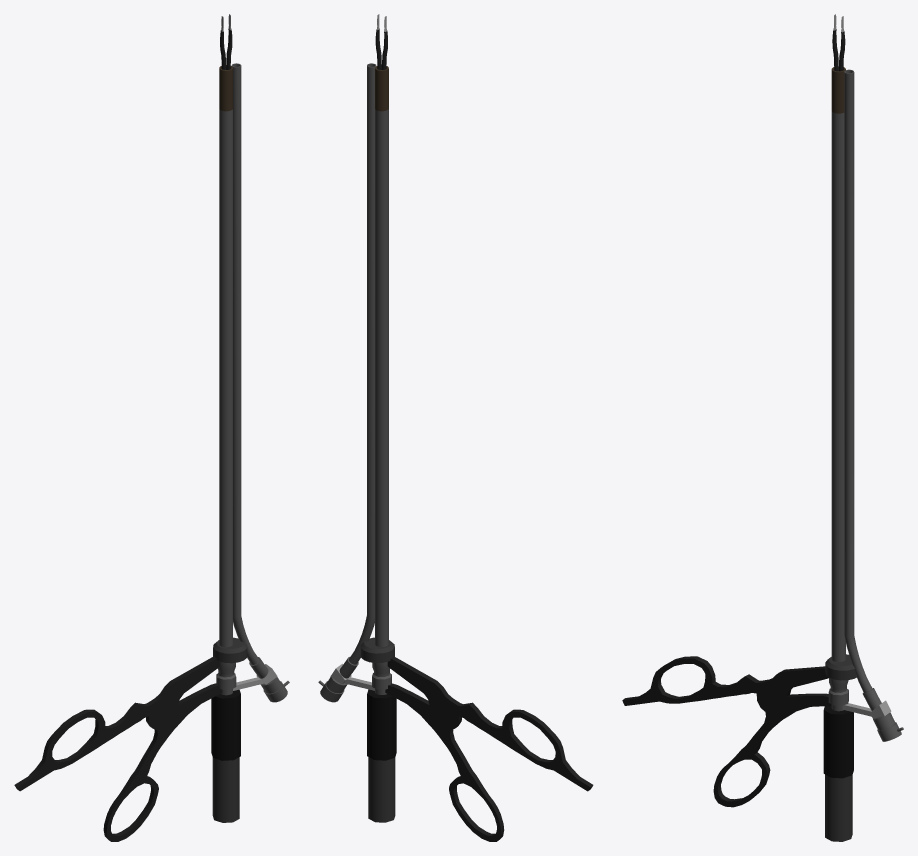
File: Pinzas_Bipolar.FBX
3 views of the same model, side by side, from view 1: azimuth 30°, elevation 25°; view 2: azimuth 150°, elevation 25°; view 3: azimuth 330°, elevation 25° (orthographic). The views are drawn at different scales.
Parts seen in each view (by area): view 1: Pinzas; view 2: Pinzas; view 3: Pinzas.
Boxes of the visible parts, left/top/right/bottom form: Pinzas: left=14, top=14, right=289, bottom=841; Pinzas: left=318, top=14, right=593, bottom=841; Pinzas: left=622, top=14, right=903, bottom=841.
Bounding box in the file's own units: 9.03 × 25.32 × 0.9895.
